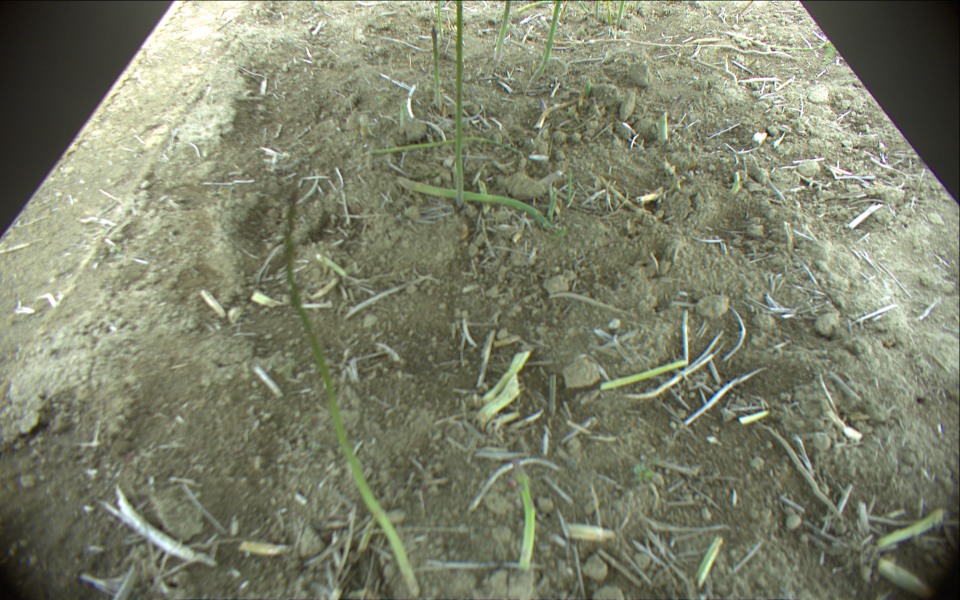aspa: (283, 189, 422, 597), (394, 176, 557, 230), (367, 135, 525, 158), (528, 1, 564, 90), (600, 359, 689, 392), (875, 510, 945, 548), (512, 459, 535, 567), (428, 25, 442, 110), (495, 1, 510, 59), (433, 1, 447, 40), (618, 1, 625, 26), (604, 1, 611, 25), (578, 1, 589, 14), (593, 1, 598, 22)
